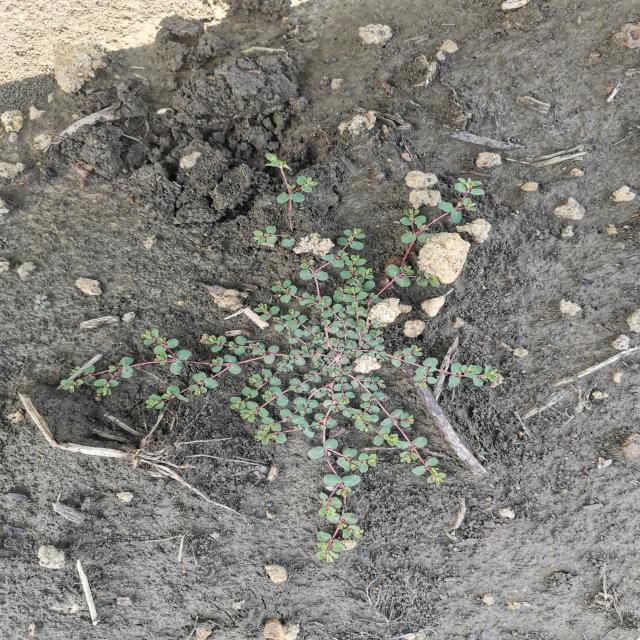SpottedSpurge: (54, 150, 508, 566)
